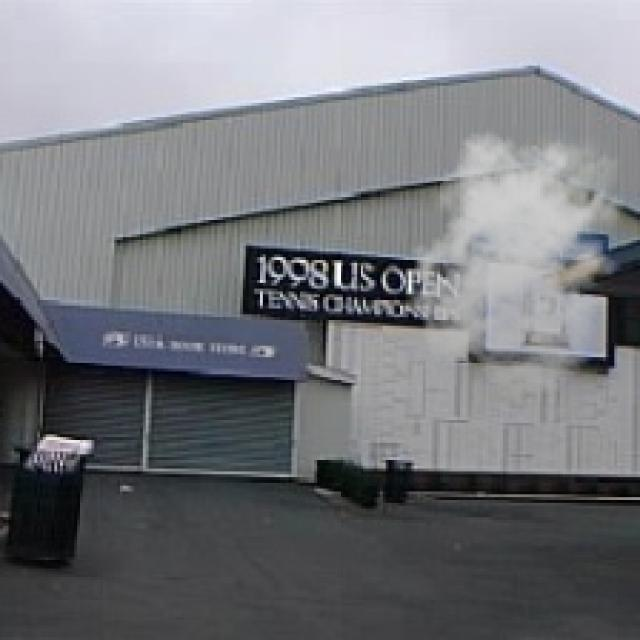Smoke: (402, 122, 638, 398)
